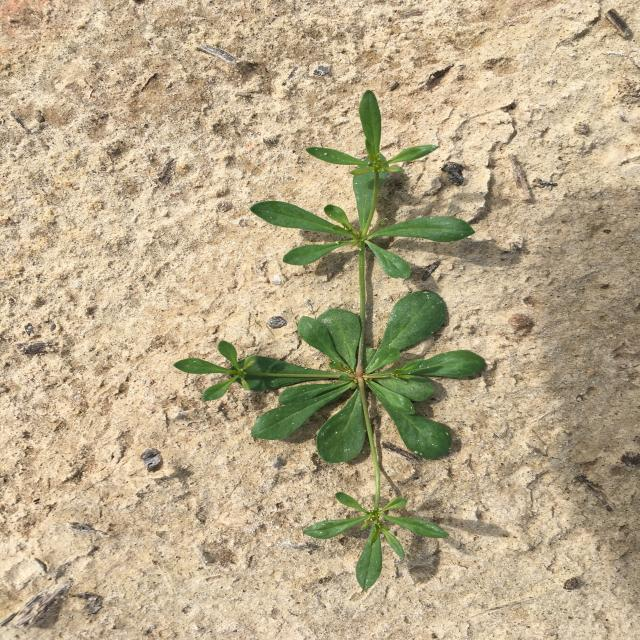Carpetweed: (173, 90, 484, 590)
